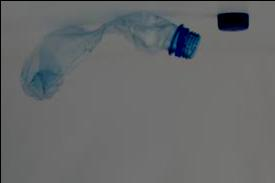Plastic: (19, 5, 201, 101), (212, 10, 250, 37)
